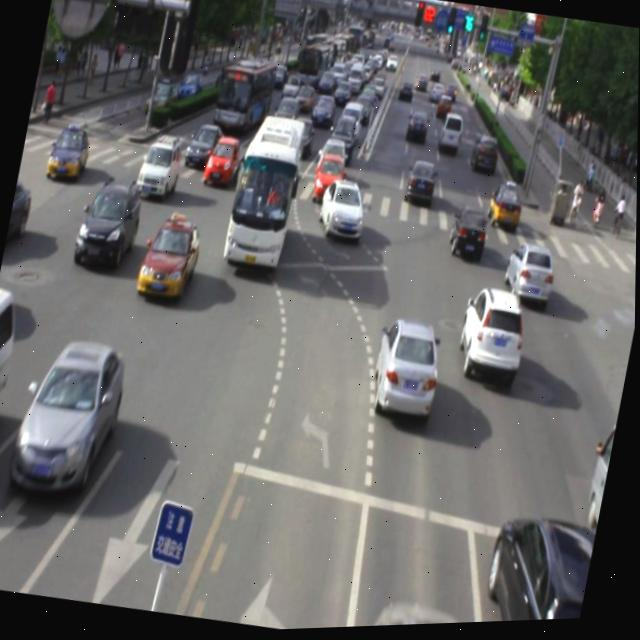car: (9, 330, 129, 502), (476, 512, 599, 626), (368, 316, 447, 426), (451, 285, 530, 390), (72, 174, 146, 272), (134, 210, 204, 304), (373, 594, 484, 629), (313, 184, 368, 251), (136, 132, 187, 203), (503, 241, 558, 306), (448, 204, 489, 267)
truck: (584, 423, 618, 541), (0, 284, 22, 443)
van: (223, 111, 307, 272)
